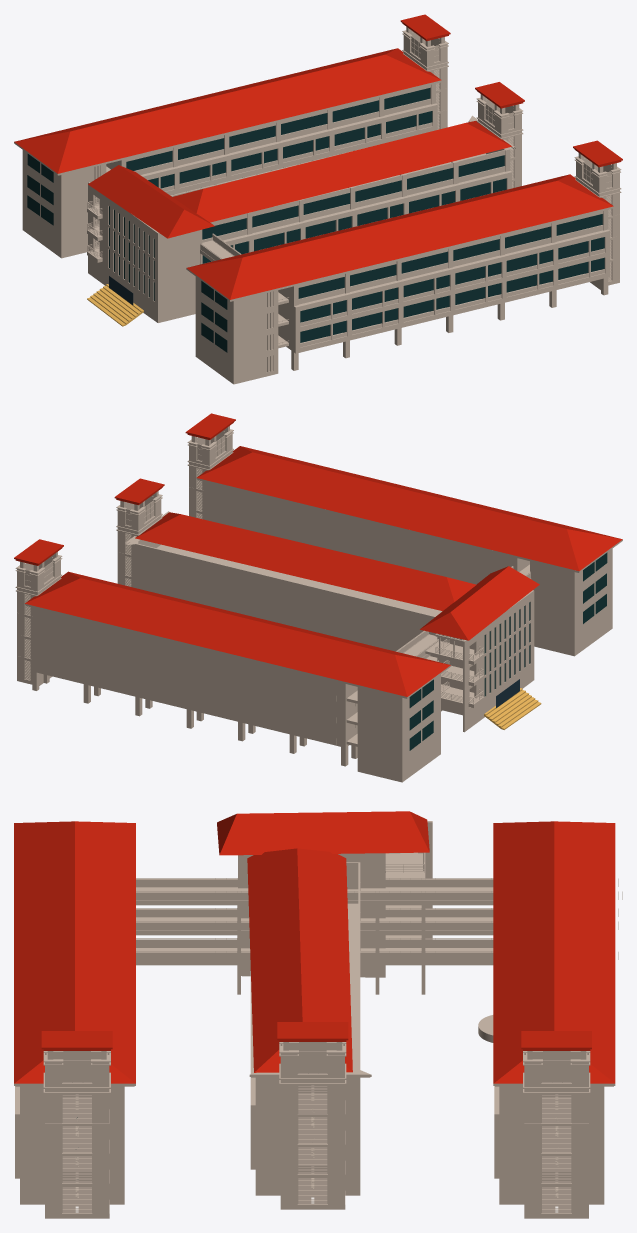
File: 宿舍楼.FBX
The picture shows the model from 3 angles, top to bottom: view 1: azimuth 30°, elevation 25°; view 2: azimuth 150°, elevation 25°; view 3: azimuth 270°, elevation 25°; orthographic projection. The views are drawn at different scales.
Parts seen in each view (by area): view 1: ssl22, ssl21, ssl23, ssl20; view 2: ssl22, ssl21, ssl23, ssl20; view 3: ssl21, ssl22.
Part boxes in pixels (x1,y1,x2,y2): ssl22: (14,27,621,384); ssl21: (14,14,622,299); ssl23: (27,88,604,352); ssl20: (87,284,143,326); ssl22: (15,426,622,782); ssl21: (14,413,622,696); ssl23: (409,552,607,750); ssl20: (484,688,541,729); ssl21: (14,811,615,1083); ssl22: (14,821,622,1218).
Bounding box in the file's own units: 725202 × 213521 × 661018.
